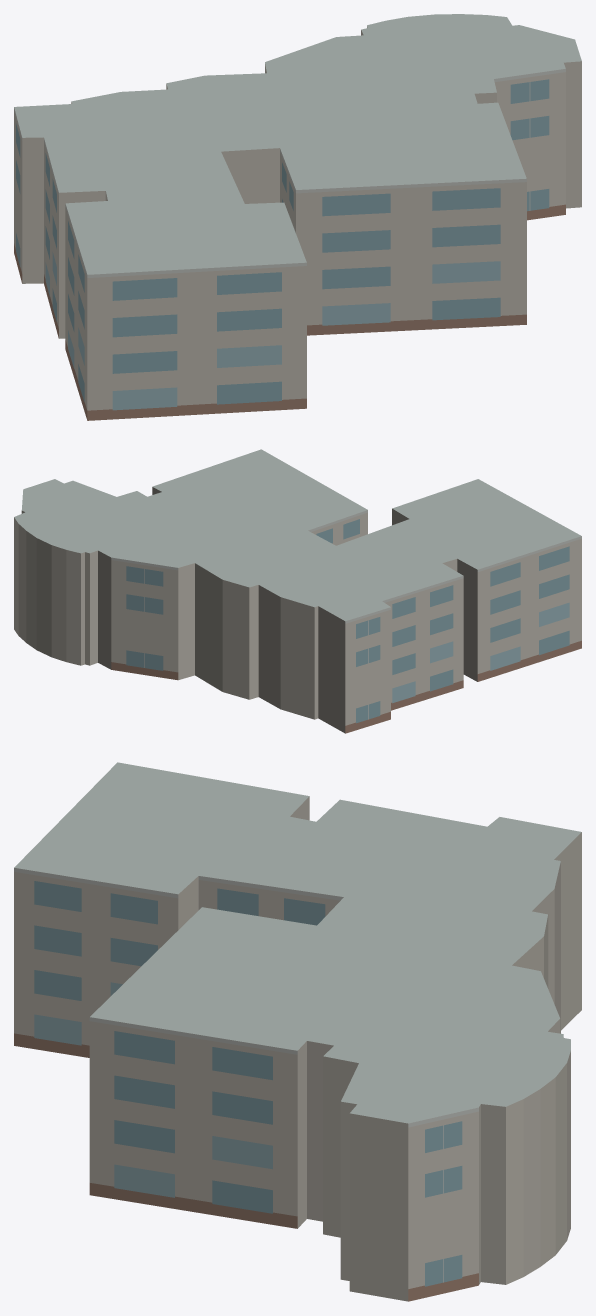
The model's file is survey-upis-32682599.glb.
The picture shows the model from 3 angles, top to bottom: view 1: azimuth 30°, elevation 25°; view 2: azimuth 150°, elevation 25°; view 3: azimuth 270°, elevation 25°; orthographic projection. The views are drawn at different scales.
Visible parts, largest first — view 1: survey-upis-32682599.tmp; view 2: survey-upis-32682599.tmp; view 3: survey-upis-32682599.tmp.
Part boxes in pixels (x1,y1,x2,y2): survey-upis-32682599.tmp: (14,14,581,420); survey-upis-32682599.tmp: (14,449,581,733); survey-upis-32682599.tmp: (14,762,581,1301).
Size of the model in its own units: 46.99 by 10.8 by 31.22.
